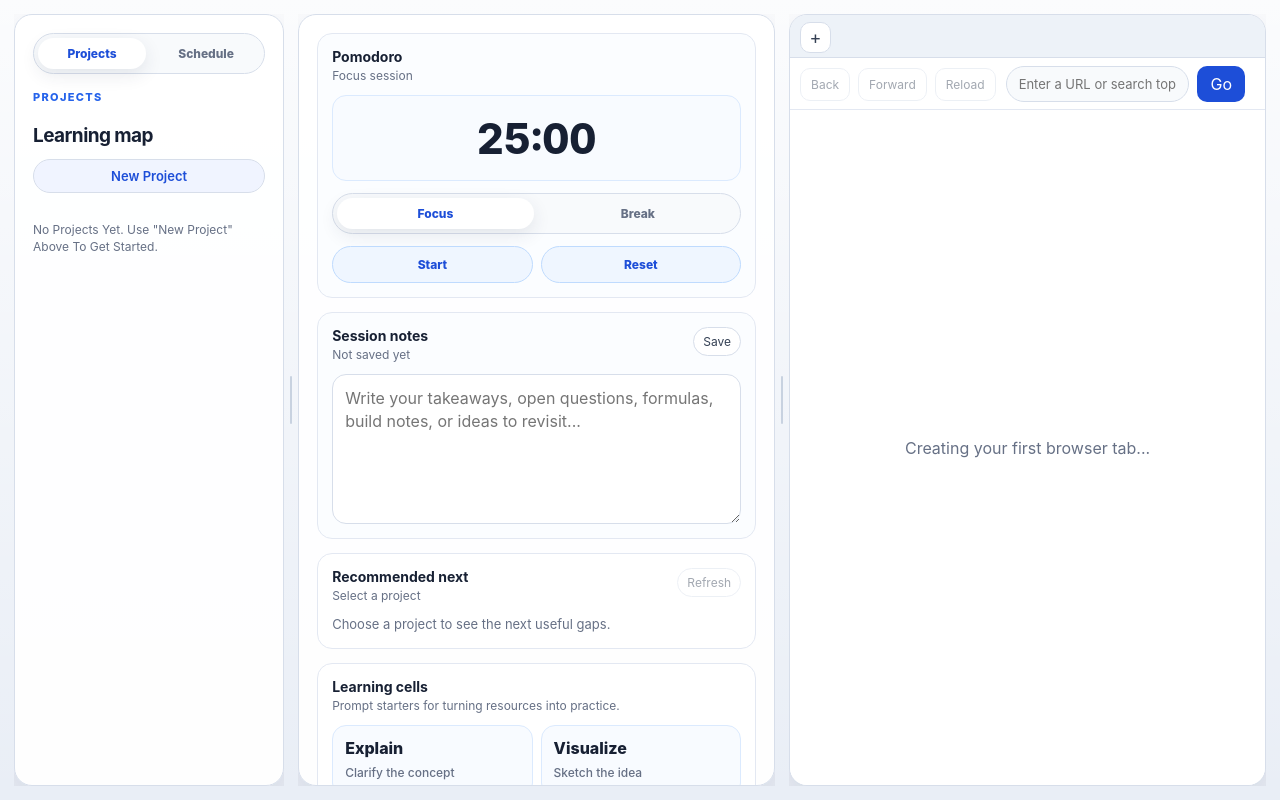
App › creates projects and links resources to them
The image size is (1280, 800).
Click the button "New Project". click: coordinates (149, 176)
box: x1=33 y1=159 x2=265 y2=193
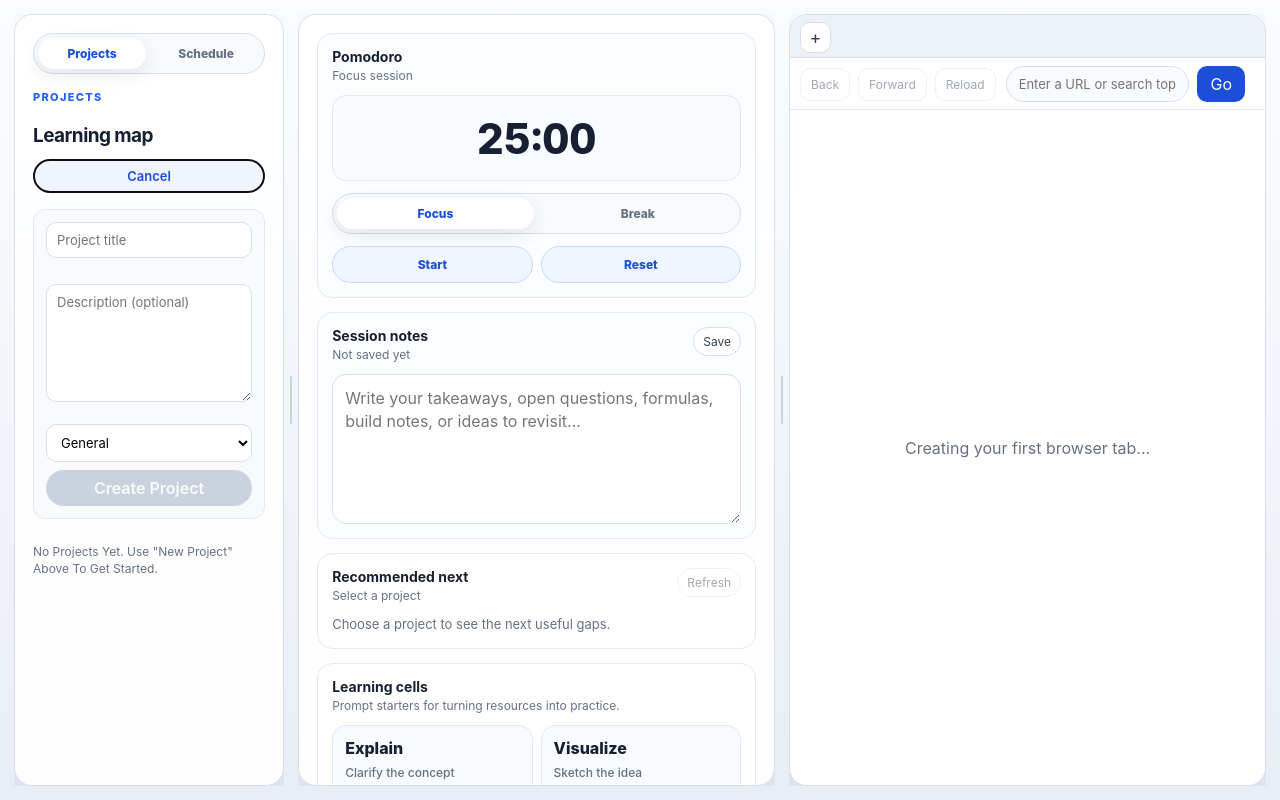
Type "Spec Miata Build" into the field with placeholder "Project title". click: coordinates (149, 240)
box: x1=46 y1=222 x2=252 y2=258
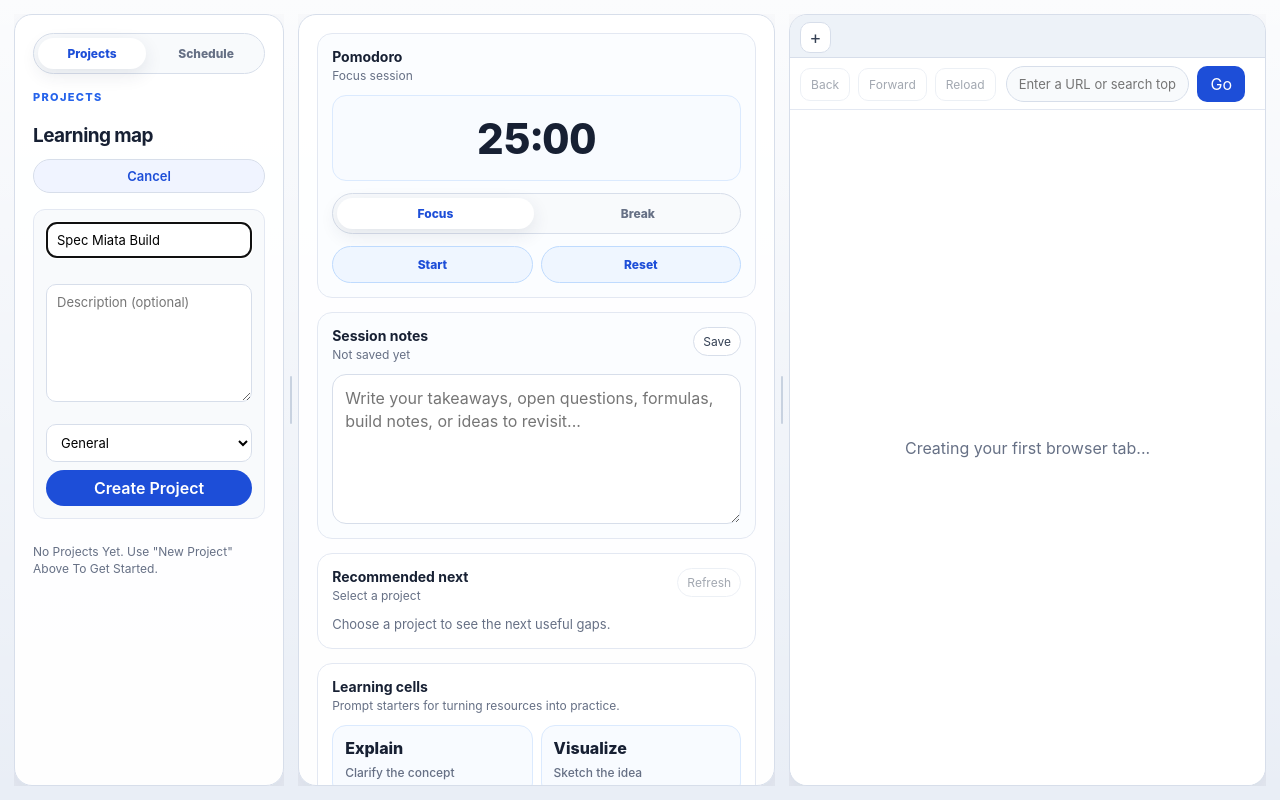
Type "Organize chassis and engine resources." into the text box with placeholder "Description (optional)". click: coordinates (149, 343)
box: x1=46 y1=284 x2=252 y2=402
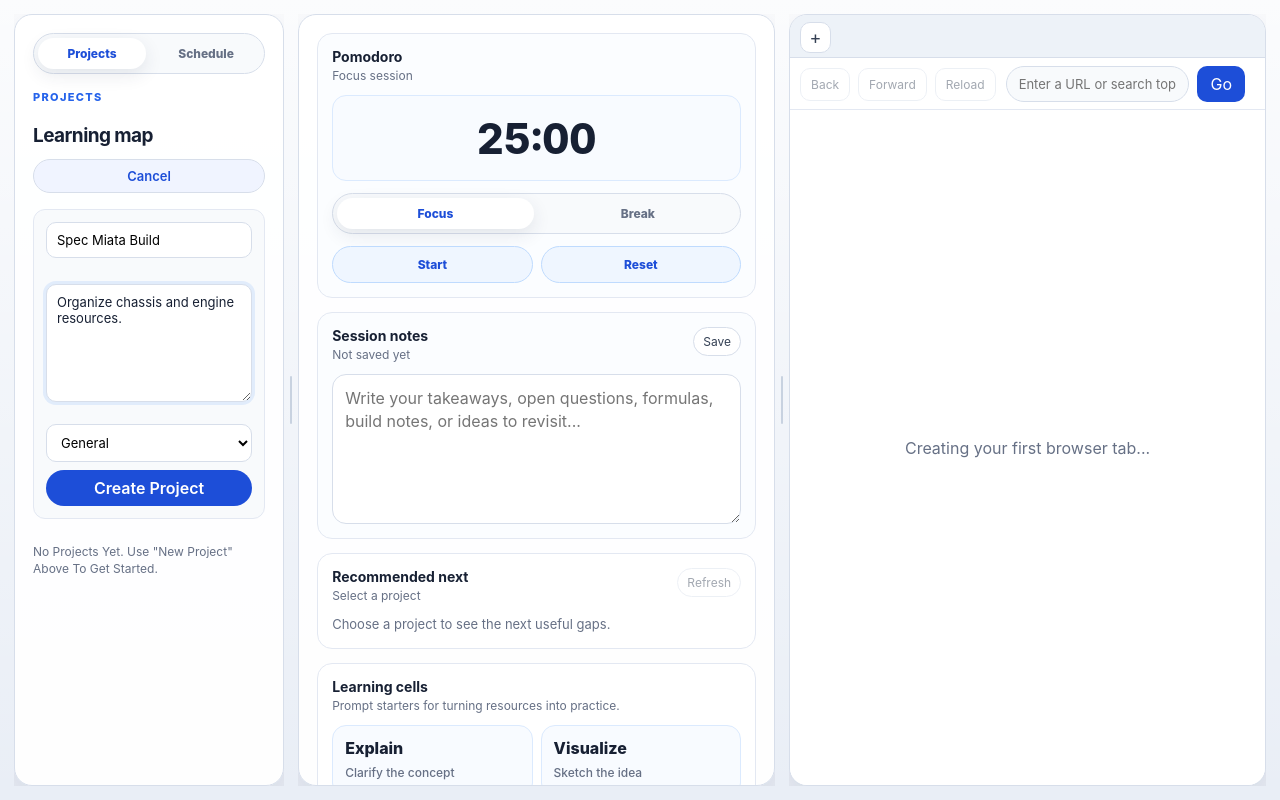
Select "Build" in the dropdown showing "General". click: coordinates (149, 443)
box: x1=46 y1=424 x2=252 y2=462
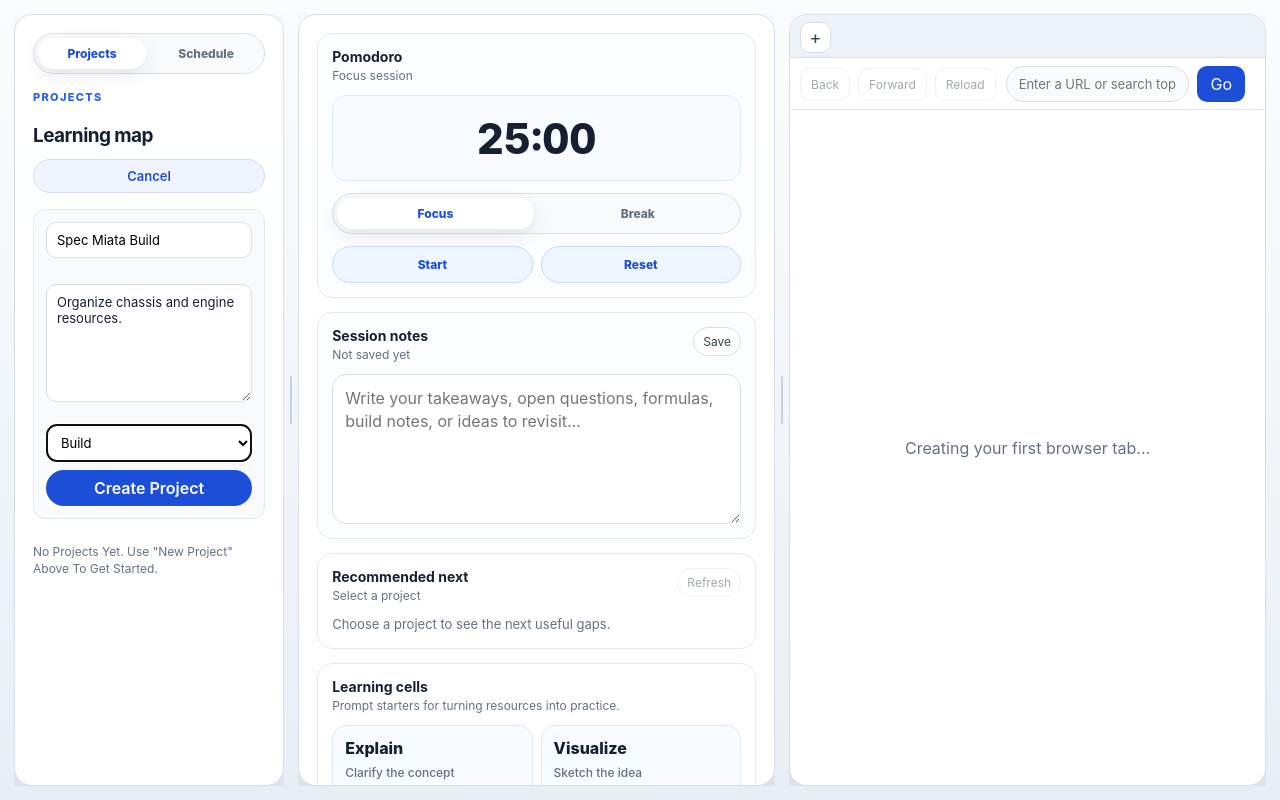
Click the button "Create Project". click: coordinates (149, 488)
box: x1=46 y1=470 x2=252 y2=506
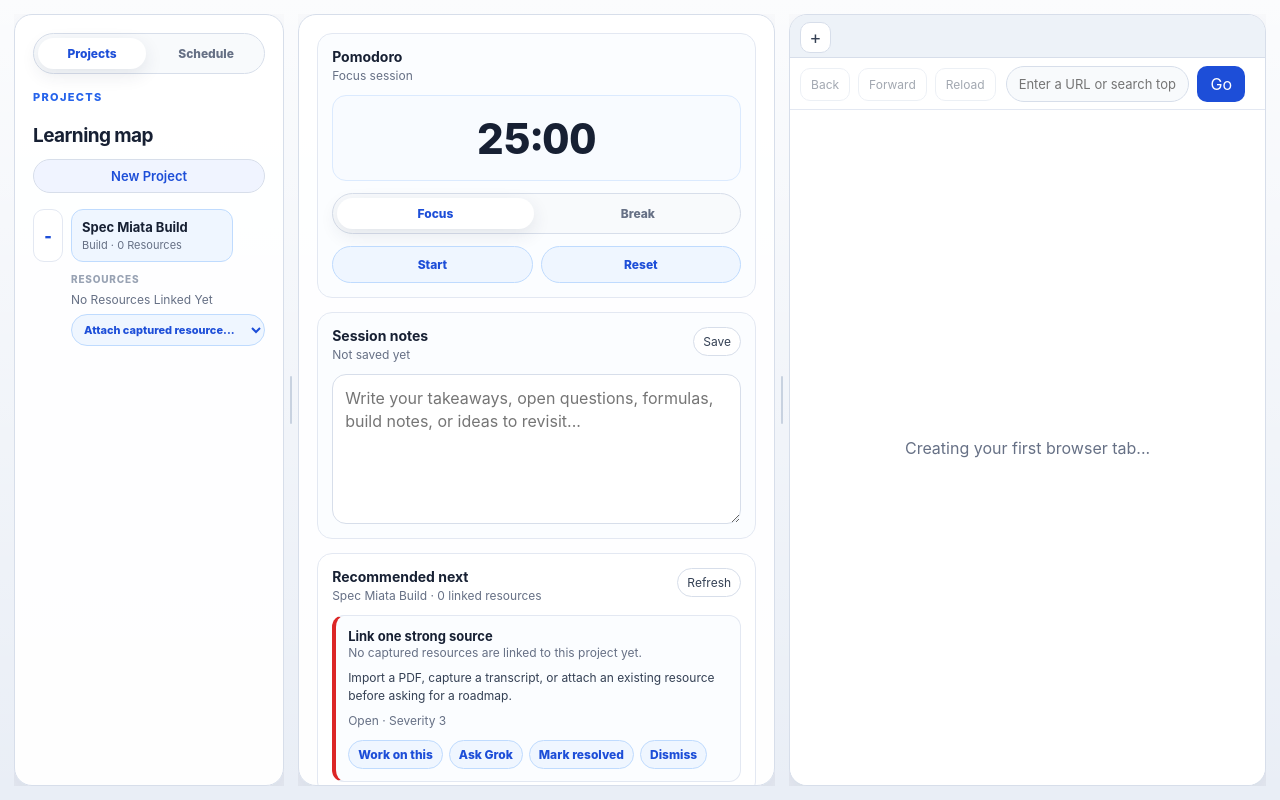
Select "Chassis Stiffness Notes" in the dropdown named "Attach captured resource to Spec Miata Build". click: coordinates (168, 330)
box: x1=71 y1=314 x2=265 y2=346
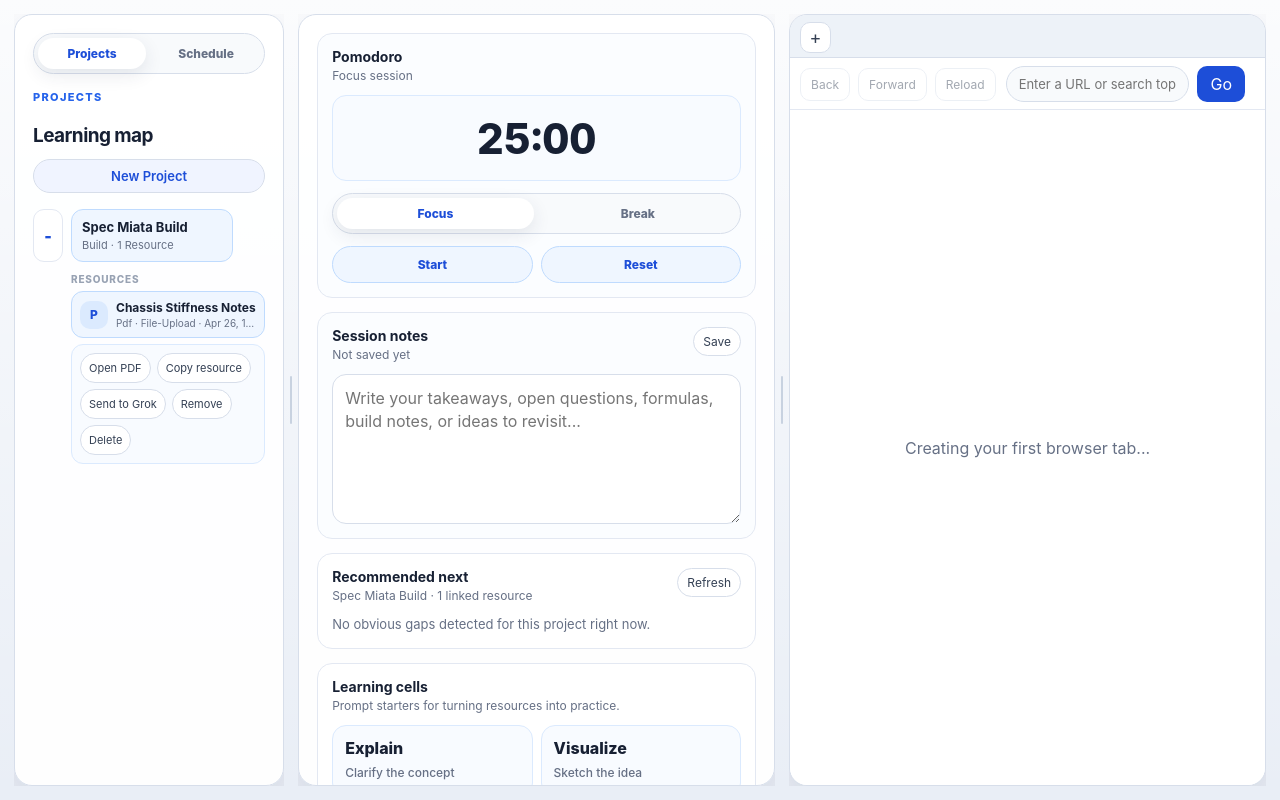
Now the text "Chassis Stiffness Notes" is shown, box x1=116 y1=300 x2=256 y2=315
Now the text "build · 1 resource" is shown, box x1=82 y1=238 x2=174 y2=252
